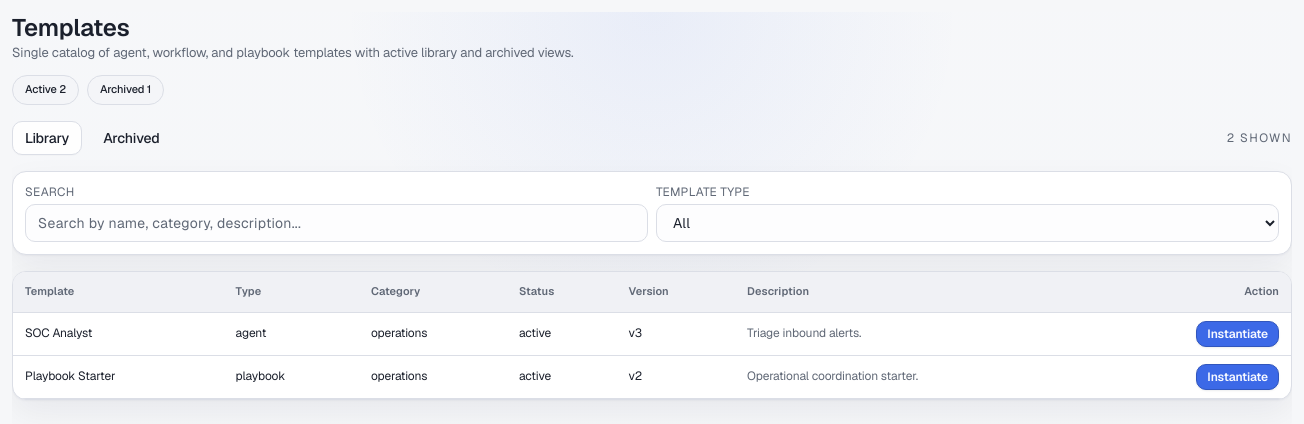
Test case: TemplatesPage › switches to the archived view for deprecated templates
The image size is (1304, 424).
Expected: the text "SOC Analyst" is shown, x1=13 y1=312 x2=224 y2=355
Click the button "Archived": point(131, 138) x1=90 y1=121 x2=173 y2=155
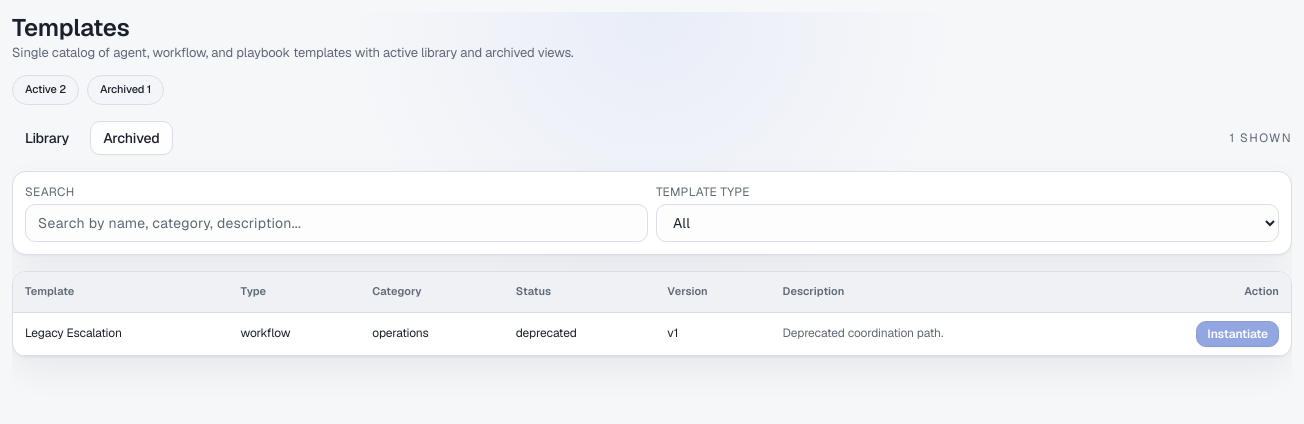
Result: the text "Legacy Escalation" is shown at x1=13 y1=312 x2=228 y2=355
Result: the text "SOC Analyst" is gone
